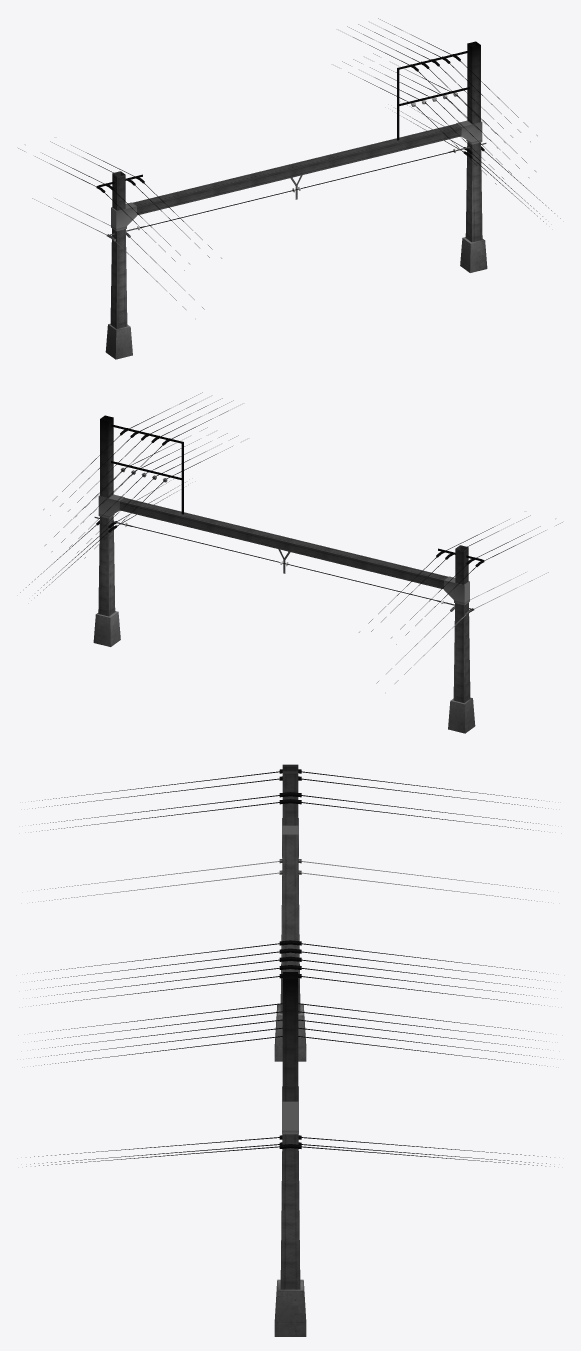
Rendered from KASENCHU_KIN02.glb.
3 views of the same model, one above another, from view 1: azimuth 30°, elevation 25°; view 2: azimuth 150°, elevation 25°; view 3: azimuth 270°, elevation 25° (orthographic). The views are drawn at different scales.
Parts seen in each view (by area): view 1: Base_Block; view 2: Base_Block; view 3: Base_Block.
Part boxes in pixels (x1,y1,x2,y2): Base_Block: [18, 18, 560, 359]; Base_Block: [20, 392, 562, 733]; Base_Block: [26, 764, 554, 1336].
Size of the model in its own units: 64.52 by 35.43 by 50.
Materials: 5 (5 with a texture image).
